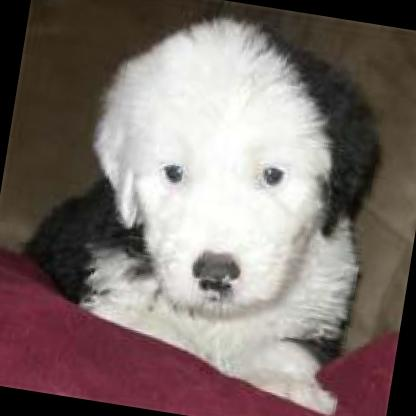Old_English_sheepdog: (0, 0, 401, 416)
